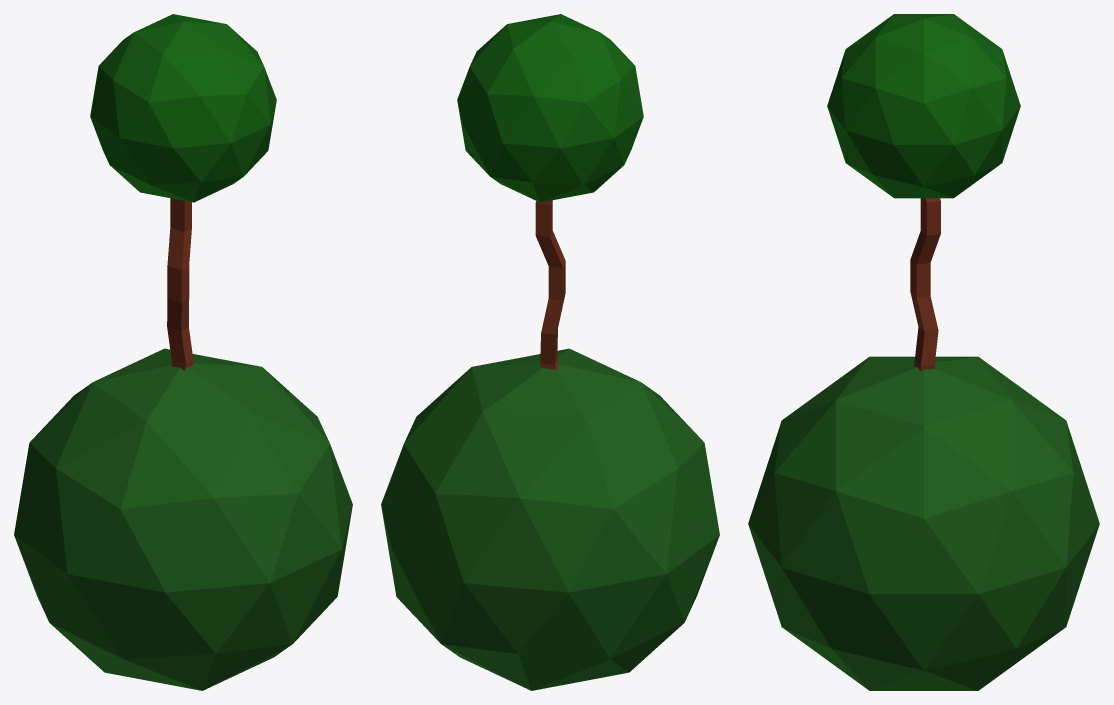
File: Krzak.fbx
The picture shows the model from 3 angles, left to right: view 1: azimuth 30°, elevation 25°; view 2: azimuth 150°, elevation 25°; view 3: azimuth 270°, elevation 25°; orthographic projection.
Parts seen in each view (by area): view 1: Kula ico, Kula ico.001, Kostka; view 2: Kula ico, Kula ico.001, Kostka; view 3: Kula ico, Kula ico.001, Kostka.
Boxes of the visible parts, bbox=[...] form: Kula ico: bbox=[14, 348, 352, 690]; Kula ico.001: bbox=[90, 14, 276, 202]; Kostka: bbox=[167, 198, 193, 370]; Kula ico: bbox=[381, 348, 719, 690]; Kula ico.001: bbox=[457, 14, 643, 202]; Kostka: bbox=[535, 200, 565, 370]; Kula ico: bbox=[748, 356, 1099, 690]; Kula ico.001: bbox=[827, 14, 1020, 198]; Kostka: bbox=[910, 198, 940, 371].
Size of the model in its own units: 107 by 234 by 112.
